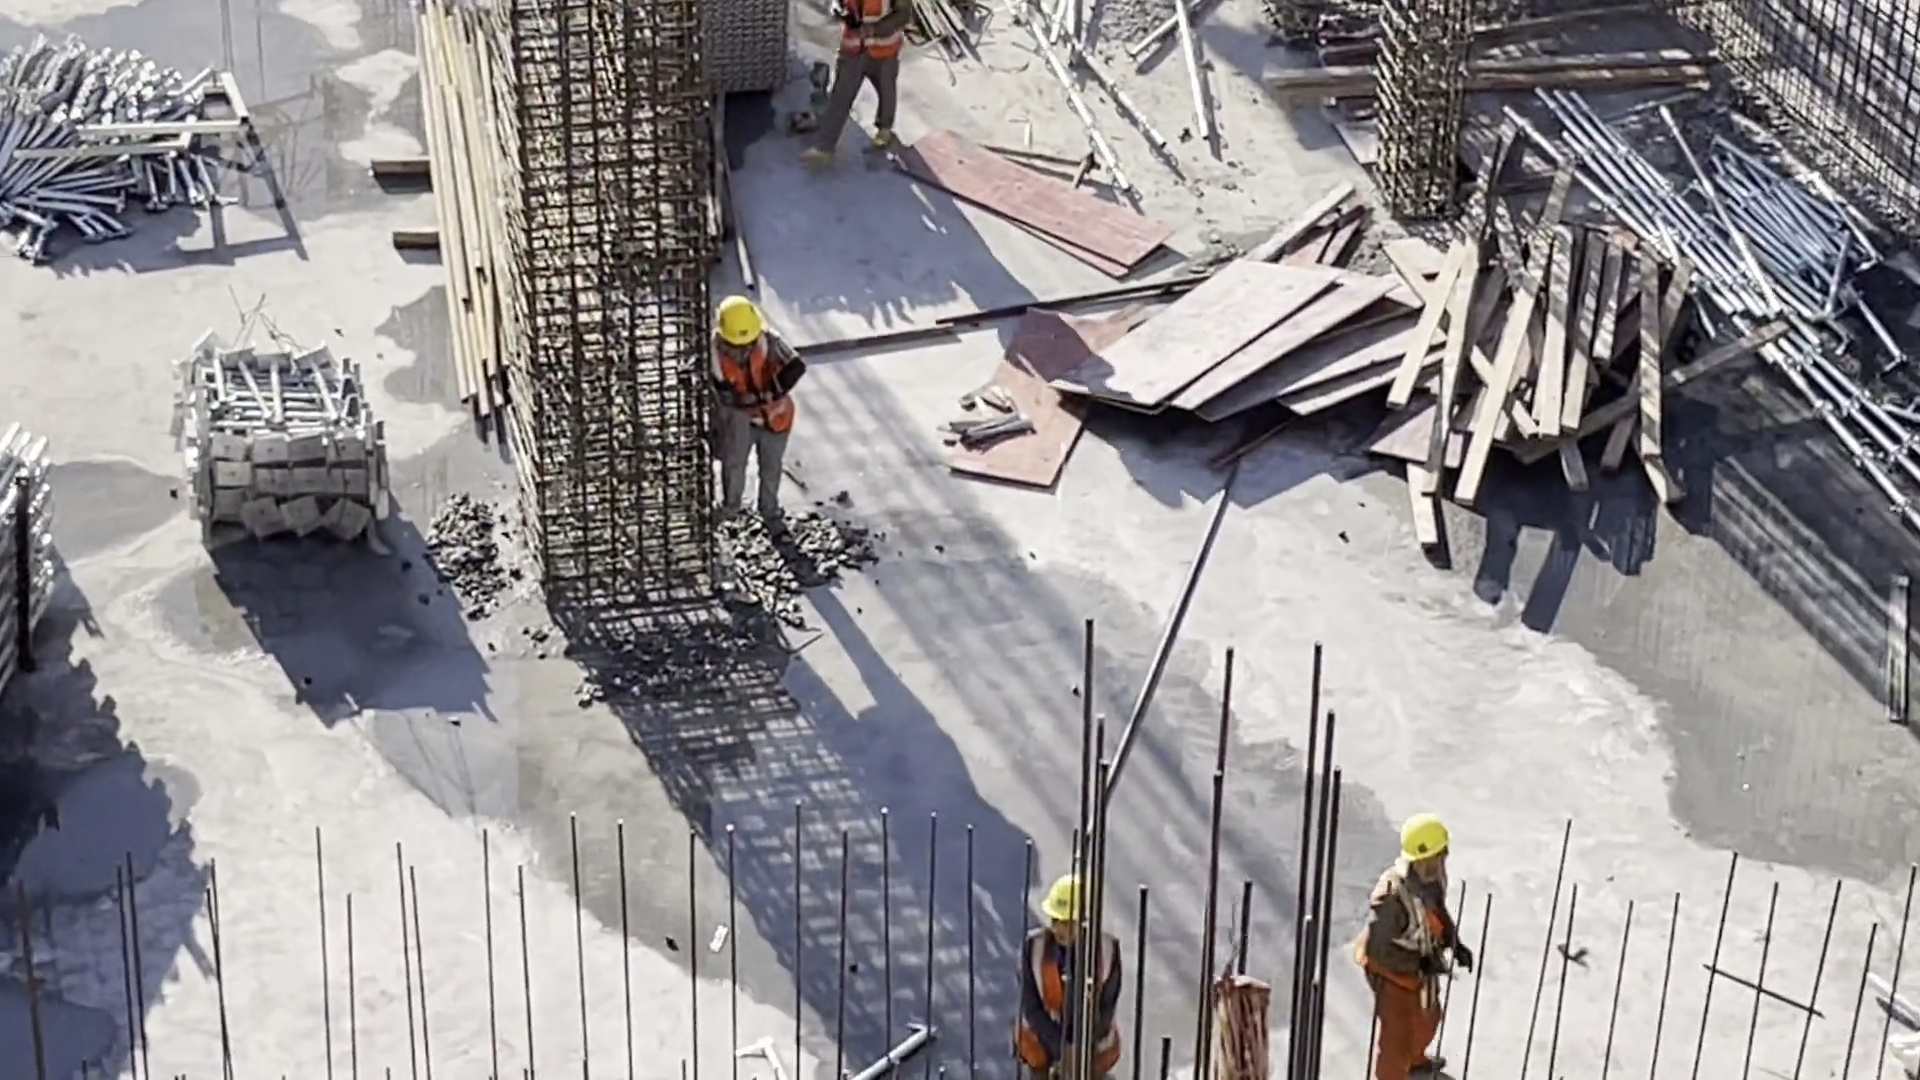board: (1069, 260, 1405, 436)
helmet: (1043, 864, 1104, 920), (1401, 806, 1451, 867), (714, 291, 766, 346)
person: (1351, 780, 1455, 1080), (688, 276, 801, 546), (1019, 857, 1143, 1080), (812, 1, 921, 152)
scaffold: (1, 25, 253, 249), (171, 323, 385, 570), (1, 422, 78, 762), (1711, 138, 1854, 313), (654, 1, 792, 99)
vest: (1018, 927, 1139, 1067), (698, 330, 798, 429), (1365, 872, 1439, 974), (837, 1, 908, 59)
wood: (1383, 221, 1686, 495)
